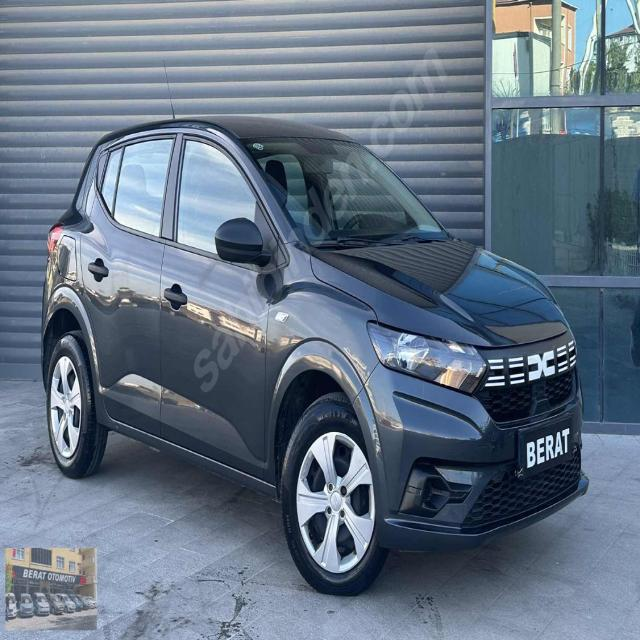dacia: (526, 348, 558, 384)
